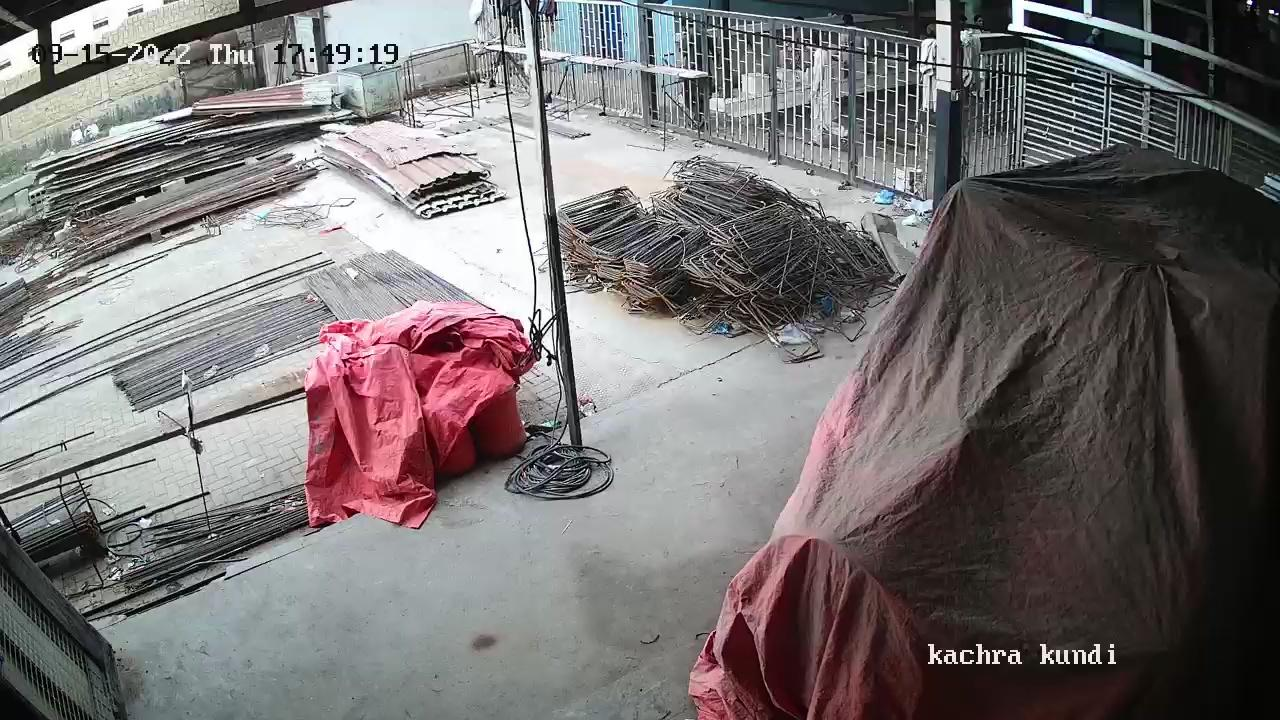person: (801, 34, 850, 151)
